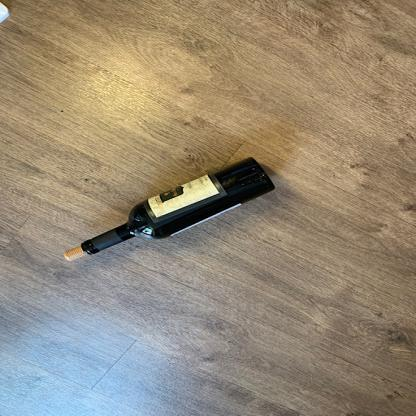trash: (81, 157, 278, 259)
